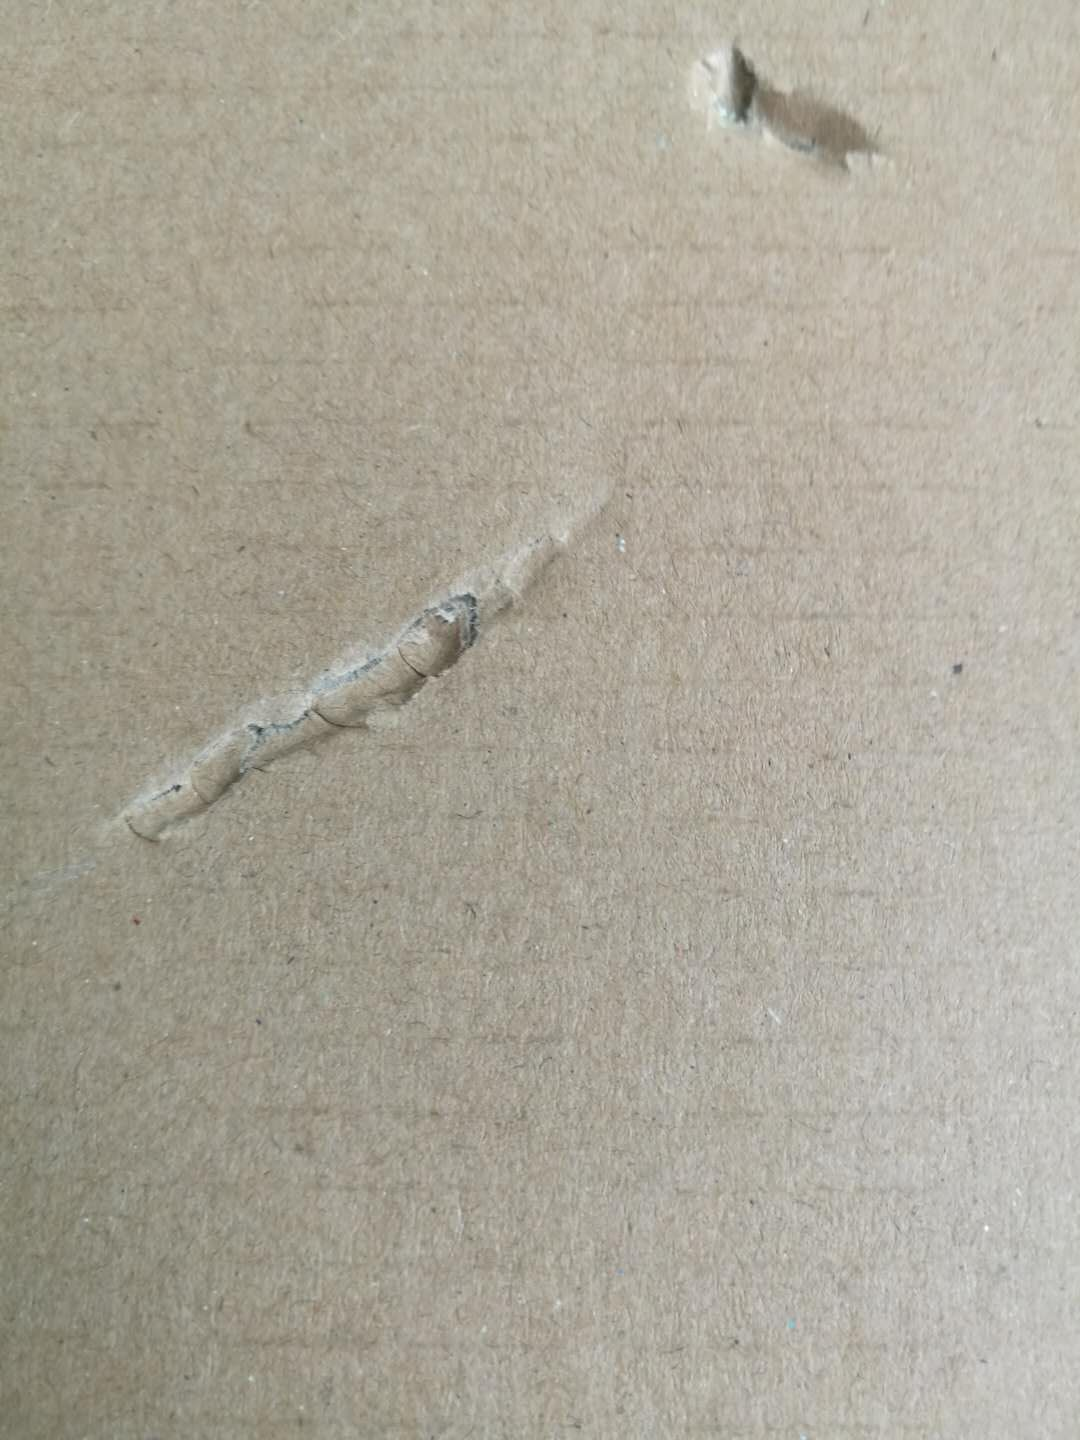defect: (68, 437, 670, 912), (665, 16, 914, 205)
